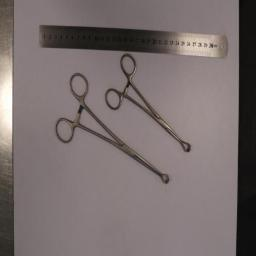Babcock Tissue Forceps: (106, 54, 190, 150)
